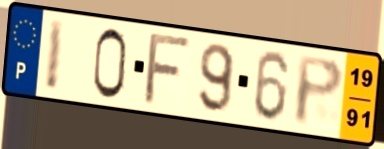0: (91, 26, 130, 101)
6: (252, 47, 291, 124)
9: (198, 42, 236, 115)
F: (140, 32, 195, 107)
I: (42, 16, 67, 93)
P: (293, 53, 346, 129)
